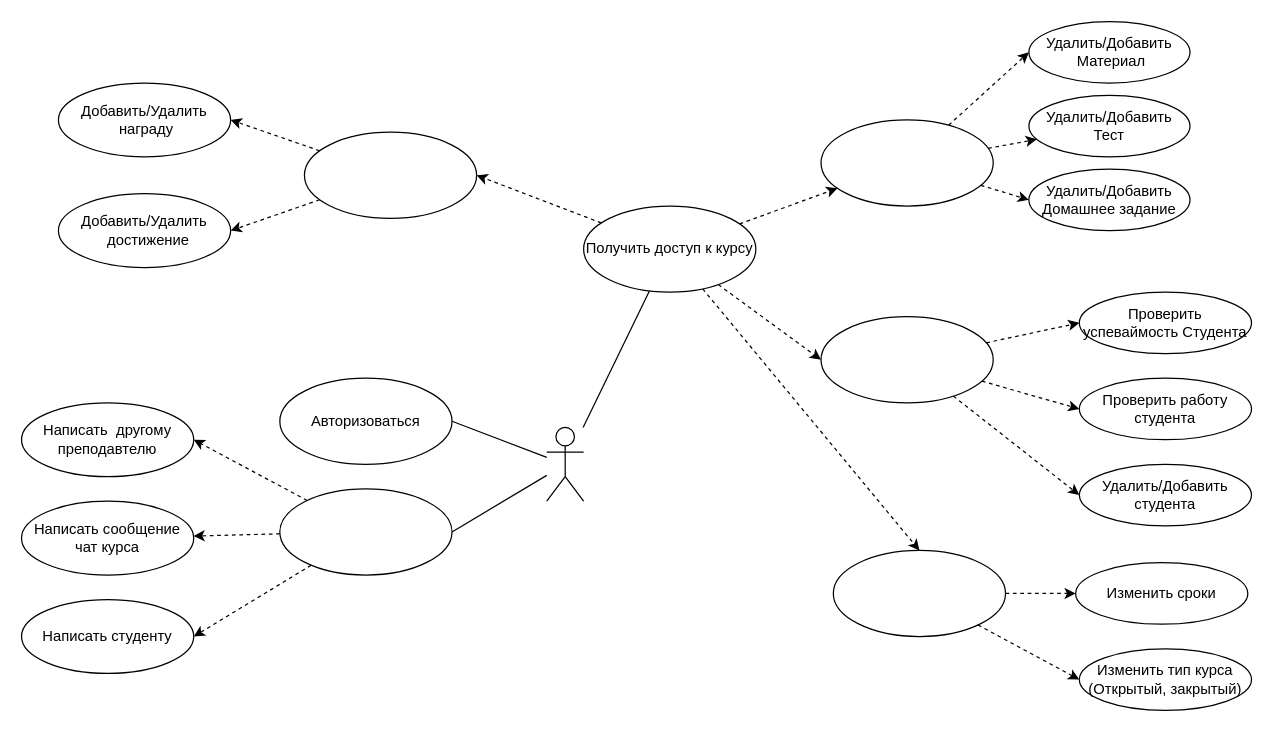
Image size: 1273x732. Some labels were removed from this diagram. The shapes that lost their labels are listed below. From the top down, each one's centre as x and y in pixels, then its label:
pixel 390 174: Управление геймификацией
pixel 906 162: Изменить содержание и структуру
pixel 906 359: Управлять студентами курса
pixel 565 463: Преподаватель
pixel 365 531: Использовать чат
pixel 919 593: Настроить курс
